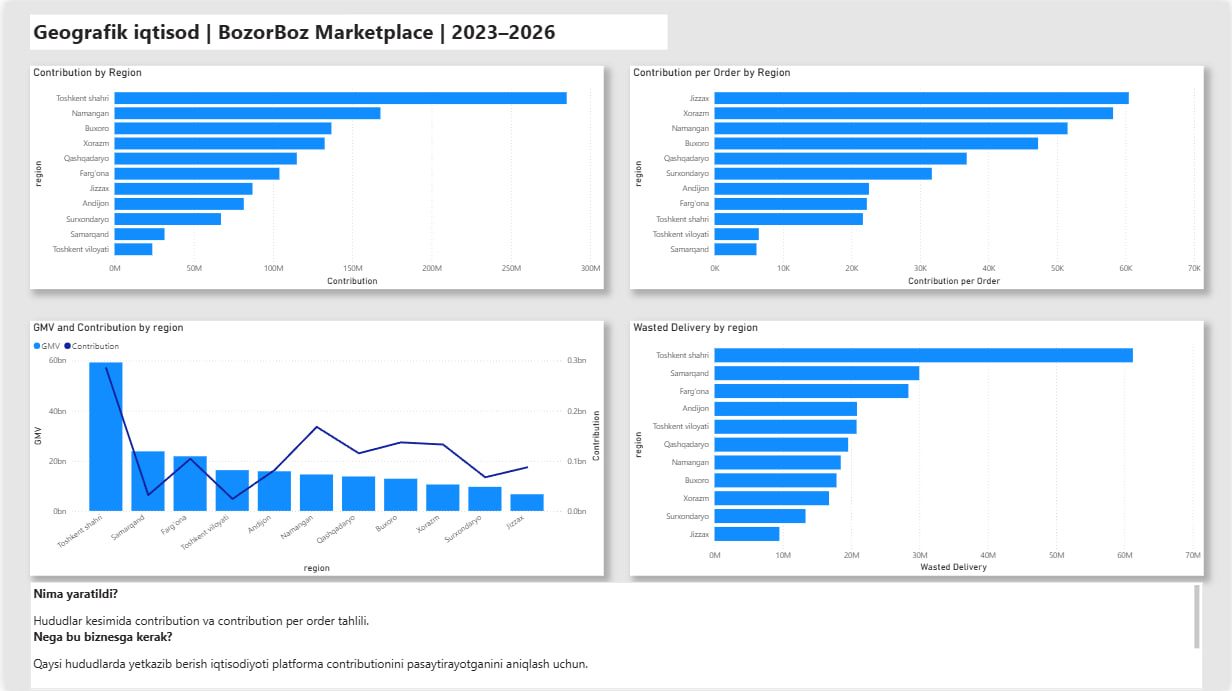

The page's visual inventory and layout, read from the dashboard file:
{"tool":"powerbi","page":{"name":"Geografik iqtisod","canvas":[1920,1080],"ordinal":5},"visuals":[{"type":"textbox","box":[40,20,1000,55],"z":0},{"type":"clusteredBarChart","title":"Contribution by Region","fields":{"Category":["dim_customer.region"],"Y":["BB_Measures.Contribution"]},"box":[40,100,900,350],"z":1000},{"type":"clusteredBarChart","title":"Contribution per Order by Region","fields":{"Category":["dim_customer.region"],"Y":["BB_Measures.Contribution per Order"]},"box":[980,100,900,350],"z":2000},{"type":"lineClusteredColumnComboChart","fields":{"Category":["dim_customer.region"],"Y":["BB_Measures.GMV"],"Y2":["BB_Measures.Contribution"]},"box":[40,500,900,400],"z":3000},{"type":"barChart","fields":{"Category":["dim_customer.region"],"Y":["BB_Measures.Wasted Delivery"]},"box":[980,500,900,400],"z":4000},{"type":"textbox","box":[39.6,910.4,1839.6,168.8],"z":4001}]}

Visuals, with their boxes in screenshot pixels (x1, y1, x2, y2), scaled from the page's 1920x1080 canvas onto the 1232x691 screenshot:
textbox: left=26, top=13, right=667, bottom=48
"Contribution by Region" clusteredBarChart: left=26, top=64, right=603, bottom=288
"Contribution per Order by Region" clusteredBarChart: left=629, top=64, right=1206, bottom=288
lineClusteredColumnComboChart - dim_customer.region x BB_Measures.GMV: left=26, top=320, right=603, bottom=576
barChart - dim_customer.region x BB_Measures.Wasted Delivery: left=629, top=320, right=1206, bottom=576
textbox: left=25, top=582, right=1206, bottom=690
